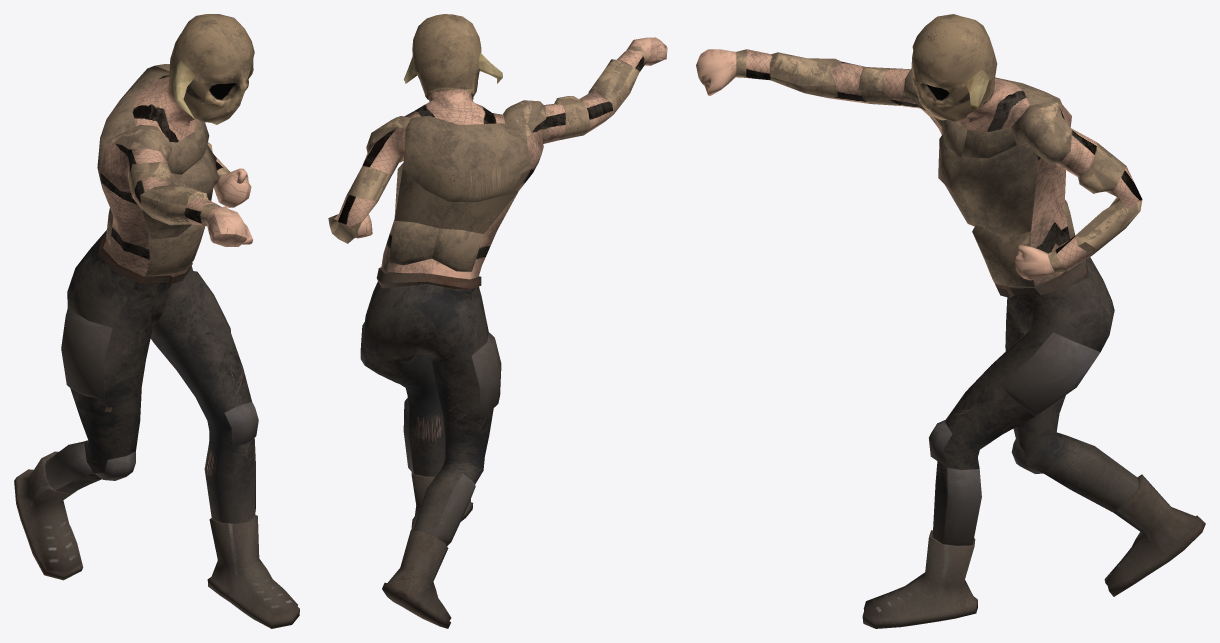
File: Anim_ataque_d1_npc1.0024.obj
3 renders of one model, left to right at view 1: azimuth 30°, elevation 25°; view 2: azimuth 150°, elevation 25°; view 3: azimuth 270°, elevation 25°, orthographic. The views are drawn at different scales.
Visible parts, largest first — view 1: NPC2; view 2: NPC2; view 3: NPC2.
Boxes of the visible parts, x1,y1,x2,y2 form: NPC2: (14,14,299,628); NPC2: (328,14,667,628); NPC2: (696,14,1205,628).
Bounding box in the file's own units: 3.14 × 8.92 × 6.78.
